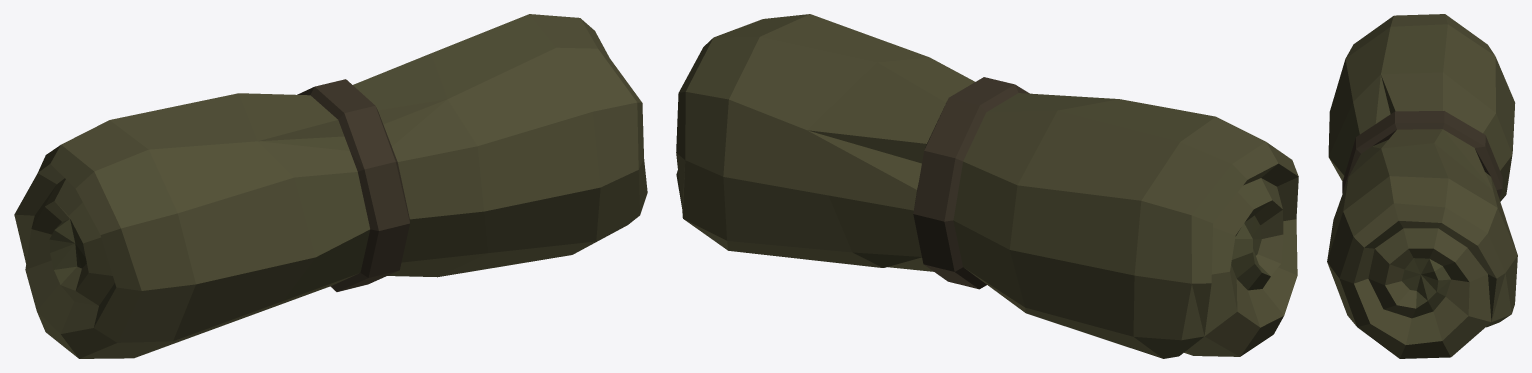
Rendered from SM_Veh_Attach_Cloth_01.fbx.
3 views of the same model, side by side, from view 1: azimuth 30°, elevation 25°; view 2: azimuth 150°, elevation 25°; view 3: azimuth 270°, elevation 25° (orthographic). The views are drawn at different scales.
Parts seen in each view (by area): view 1: SM_Veh_Attach_Cloth_01; view 2: SM_Veh_Attach_Cloth_01; view 3: SM_Veh_Attach_Cloth_01.
Part boxes in pixels (left/top/right/bottom): SM_Veh_Attach_Cloth_01: left=14, top=14, right=647, bottom=358; SM_Veh_Attach_Cloth_01: left=676, top=14, right=1298, bottom=358; SM_Veh_Attach_Cloth_01: left=1327, top=14, right=1517, bottom=358.
Size of the model in its own units: 79.89 by 28.78 by 29.9.
